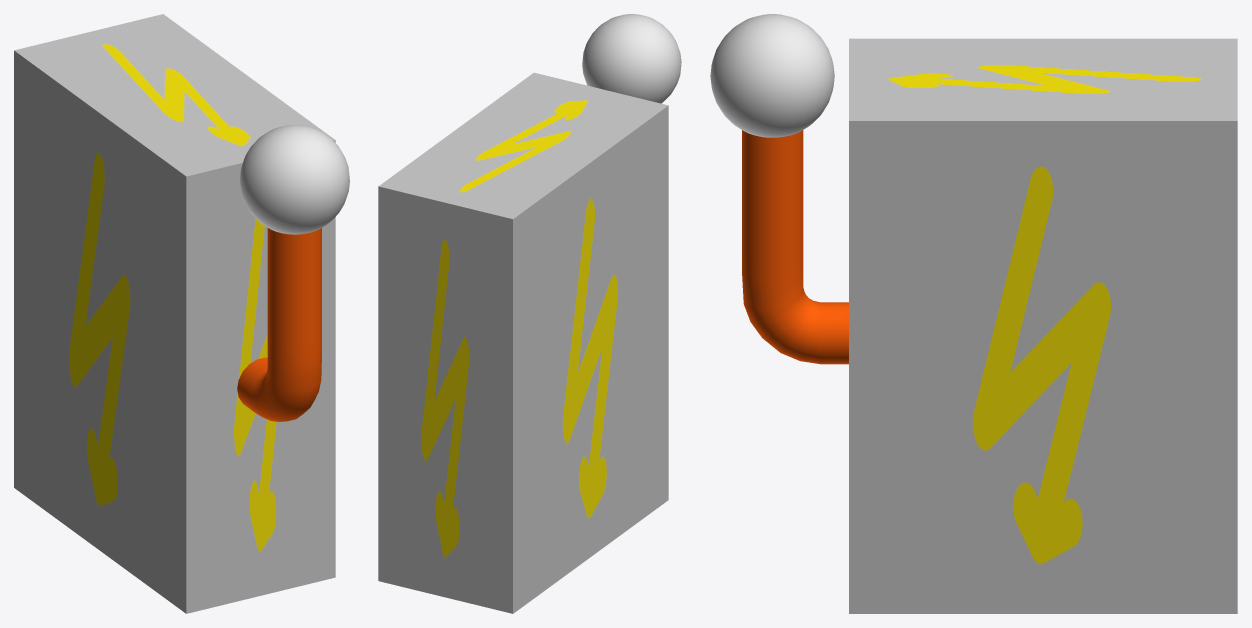
The model's file is Electricity.FBX.
3 renders of one model, left to right at view 1: azimuth 30°, elevation 25°; view 2: azimuth 150°, elevation 25°; view 3: azimuth 270°, elevation 25°, orthographic. The views are drawn at different scales.
Visible parts, largest first — view 1: Box001, Cylinder001, Sphere001; view 2: Box001, Sphere001; view 3: Box001, Cylinder001, Sphere001.
Boxes of the visible parts, x1,y1,x2,y2 form: Box001: (14, 14, 335, 613); Cylinder001: (237, 228, 321, 421); Sphere001: (240, 125, 349, 234); Box001: (378, 72, 668, 613); Sphere001: (582, 14, 681, 103); Box001: (849, 38, 1237, 613); Cylinder001: (742, 130, 848, 364); Sphere001: (710, 14, 834, 137).
Size of the model in its own units: 25 by 78.52 by 67.83.
2 materials, 2 textured.
